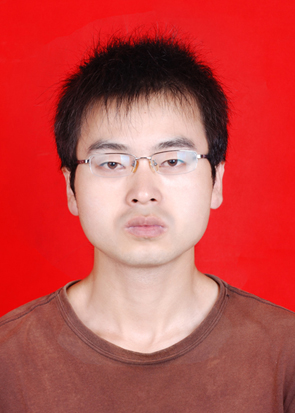unmask: (74, 98, 211, 251)
